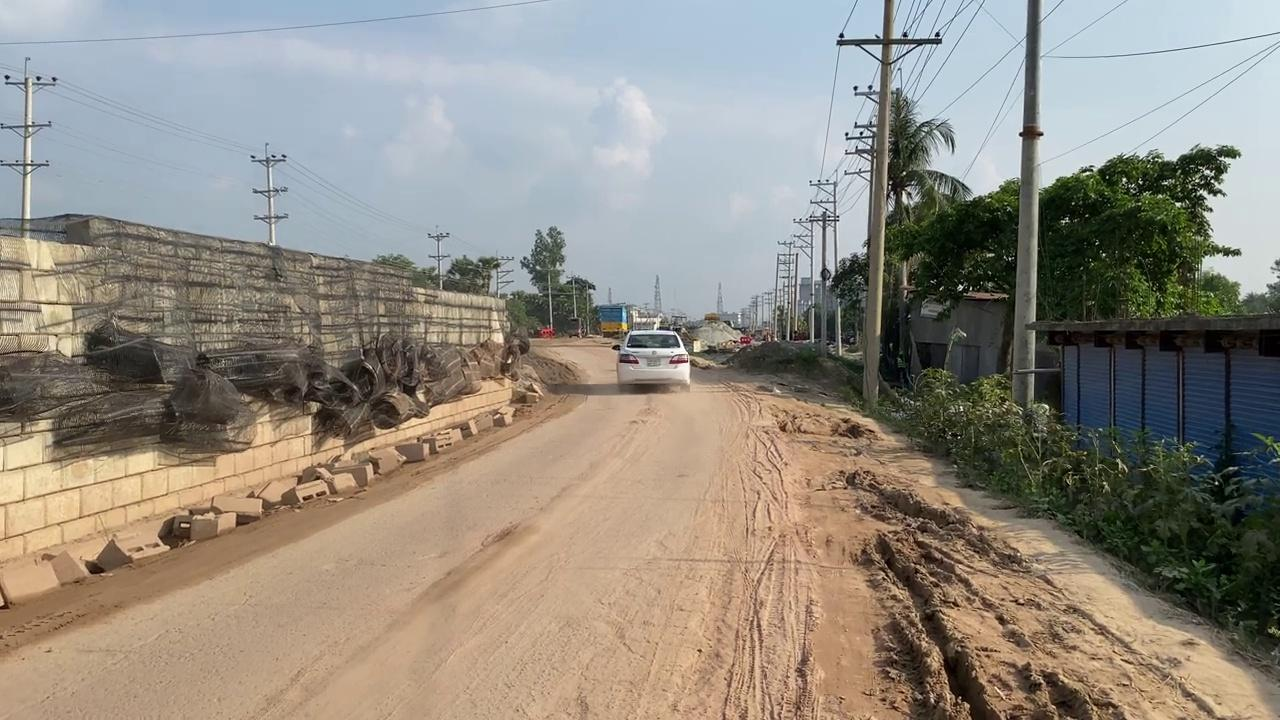Car: (611, 329, 691, 391)
Fence: (1026, 312, 1279, 519)
Muddy road: (733, 334, 1276, 720)
Obstacle: (80, 534, 132, 573)
Pole: (861, 0, 895, 411), (1010, 0, 1043, 413)
Rickshaw: (701, 343, 1276, 720)
Traffic-sign: (830, 86, 972, 395), (519, 224, 566, 331)
Tree: (597, 303, 665, 338), (597, 303, 629, 338), (567, 316, 583, 338), (669, 314, 686, 334)
Upstairs: (0, 213, 522, 561)
